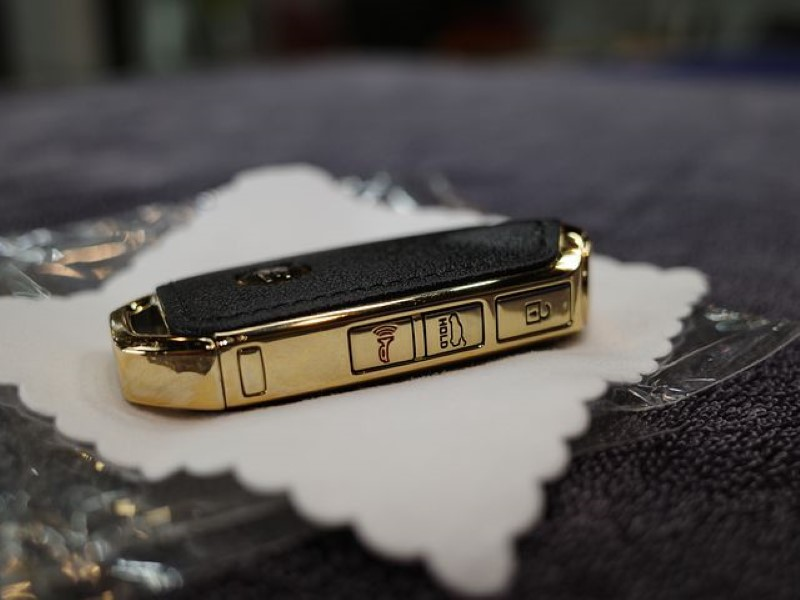carkey: (98, 204, 595, 423)
